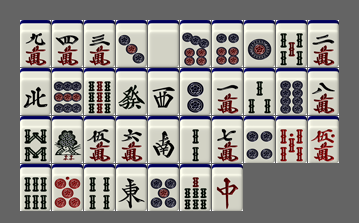0m: (308, 116, 339, 163)
0p: (52, 164, 83, 211)
0s: (276, 116, 307, 163)
1m: (212, 68, 243, 115)
1p: (244, 20, 275, 67)
1s: (52, 116, 83, 163)
1z: (116, 164, 147, 211)
2m: (308, 20, 339, 67)
2p: (180, 68, 211, 115)
2s: (180, 116, 211, 163)
2z: (148, 116, 179, 163)
3m: (84, 20, 115, 67)
3p: (116, 20, 147, 67)
3s: (244, 68, 275, 115)
3z: (148, 68, 179, 115)
4m: (52, 20, 83, 67)
4p: (244, 116, 275, 163)
4s: (84, 164, 115, 211)
4z: (20, 68, 51, 115)
5m: (84, 116, 115, 163)
5p: (148, 164, 179, 211)
5s: (276, 20, 307, 67)
5z: (148, 20, 179, 67)
6m: (116, 116, 147, 163)
6p: (212, 20, 243, 67)
6s: (20, 164, 51, 211)
6z: (116, 68, 147, 115)
7m: (212, 116, 243, 163)
7p: (180, 20, 211, 67)
7s: (180, 164, 211, 211)
7z: (212, 164, 243, 211)
8m: (308, 68, 339, 115)
8p: (276, 68, 307, 115)
8s: (20, 116, 51, 163)
9m: (20, 20, 51, 67)
9p: (52, 68, 83, 115)
9s: (84, 68, 115, 115)
